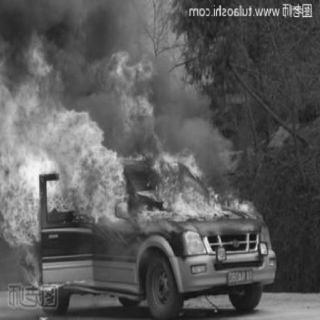Fire: (2, 26, 256, 292)
